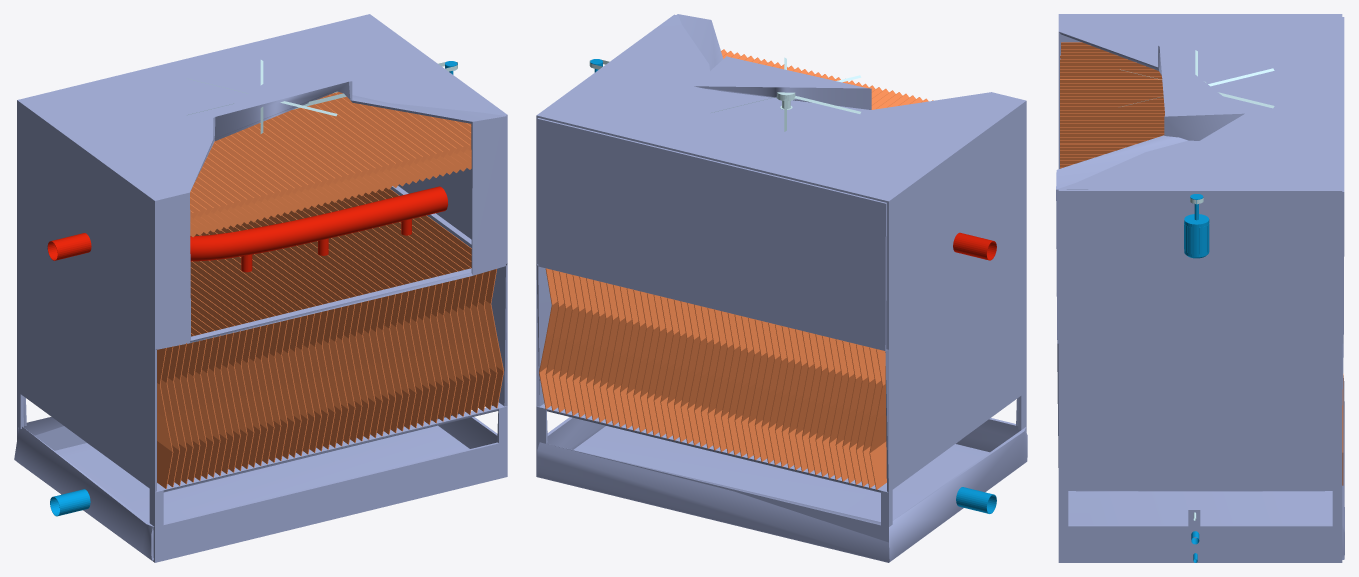
The model's file is ew-cooling-tower.zfix-v14.lod0.glb.
3 views of the same model, side by side, from view 1: azimuth 30°, elevation 25°; view 2: azimuth 150°, elevation 25°; view 3: azimuth 270°, elevation 25° (orthographic). The views are drawn at different scales.
Parts seen in each view (by area): view 1: Plane.001_0, Plane_0, Cylinder_0; view 2: Plane.001_0, Plane_0, Cylinder_0; view 3: Plane.001_0, Plane_0.
Boxes of the visible parts, left/top/right/bottom form: Plane.001_0: left=14, top=14, right=507, bottom=562; Plane_0: left=157, top=92, right=503, bottom=488; Cylinder_0: left=47, top=186, right=448, bottom=272; Plane.001_0: left=536, top=14, right=1027, bottom=562; Plane_0: left=539, top=49, right=933, bottom=489; Cylinder_0: left=953, top=232, right=996, bottom=260; Plane.001_0: left=1056, top=14, right=1344, bottom=562; Plane_0: left=1060, top=42, right=1343, bottom=485.
Size of the model in its own units: 13.36 by 12 by 7.97.
